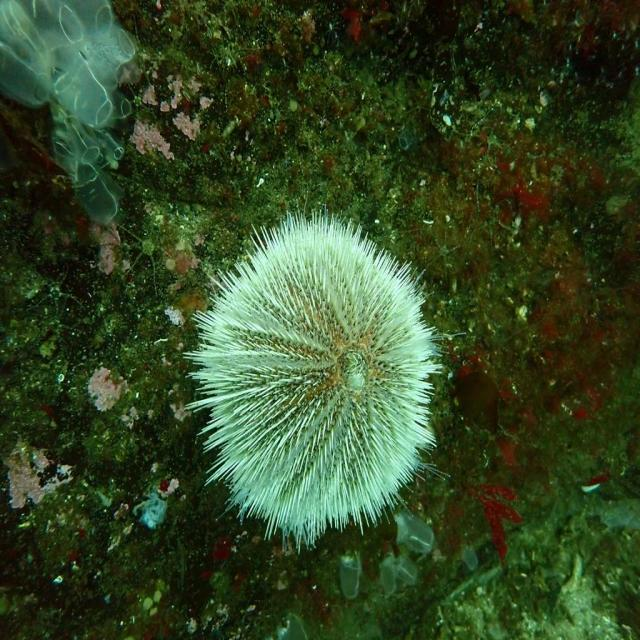Deniz Kestanesi: (183, 205, 469, 555)
